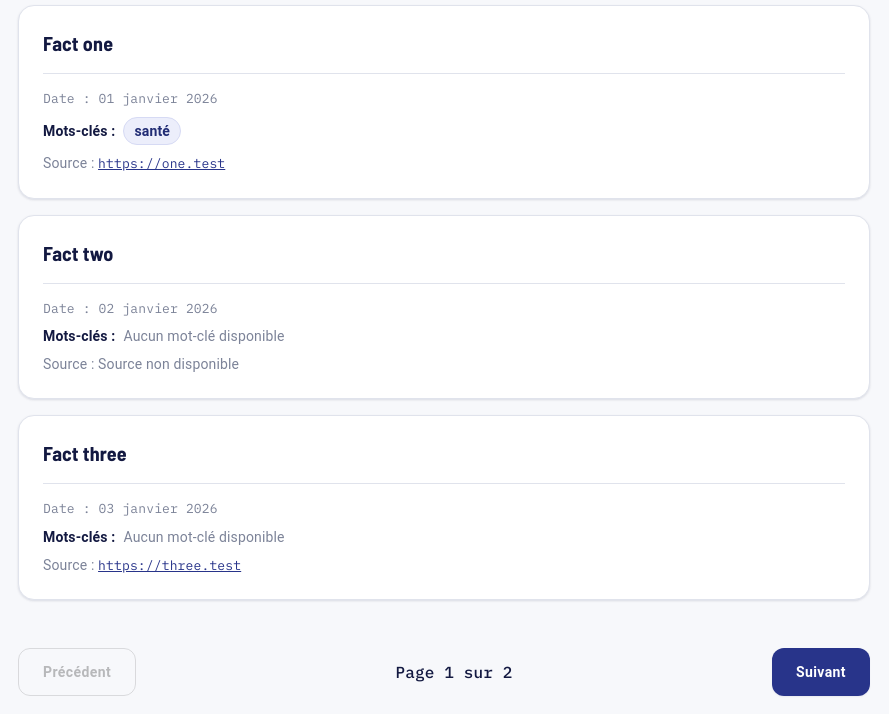
Test case: library fetches unique facts and paginates authenticated results
(page scrolled)
Expected: the heading "Fact one" is shown, [43,31,113,55]
Expected: the text "Fact four" is not shown
Click the button "Suivant" at (821, 672), box [772,648,870,696]
(page scrolled)
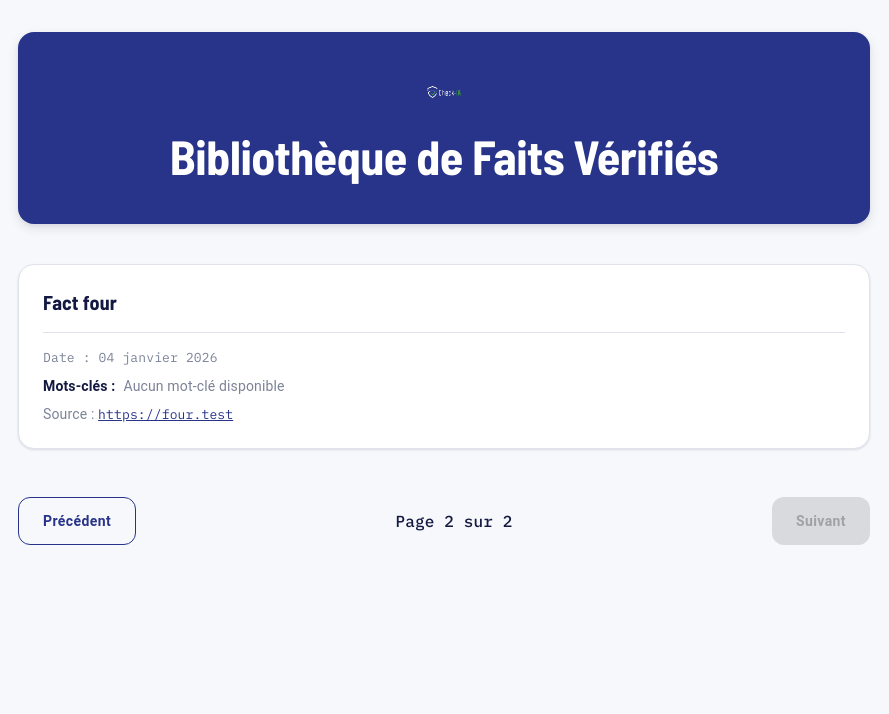
Now the heading "Fact four" is shown, box [43,290,117,314]
